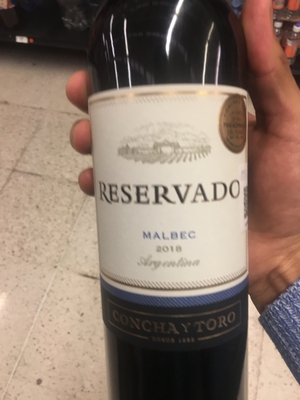reservado malbec: (82, 1, 251, 400)
